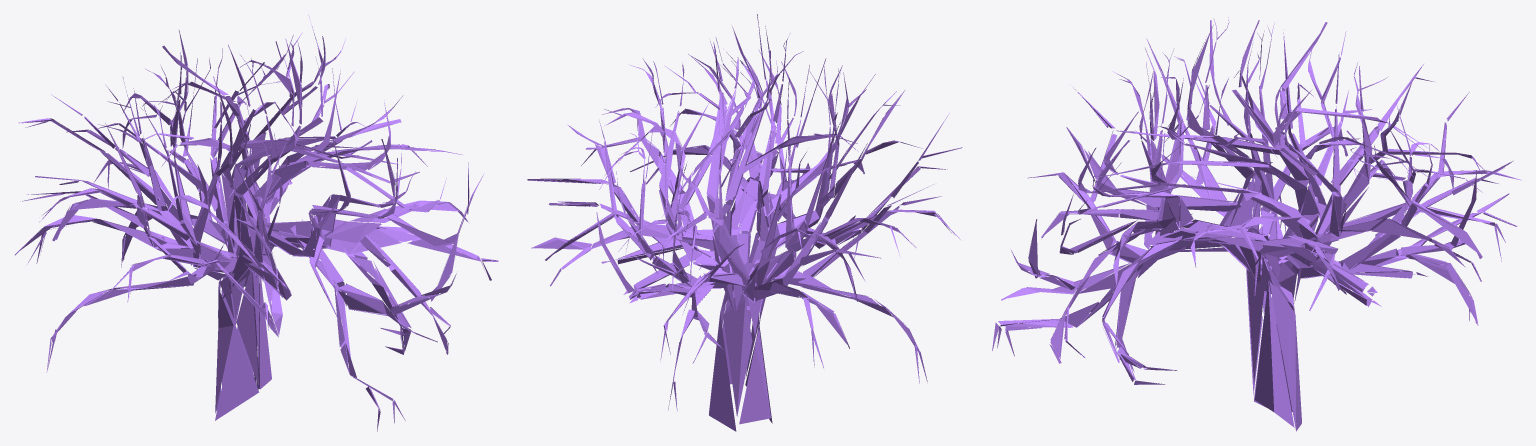
The model's file is tree.glb.
3 views of the same model, side by side, from view 1: azimuth 30°, elevation 25°; view 2: azimuth 150°, elevation 25°; view 3: azimuth 270°, elevation 25° (orthographic). The views are drawn at different scales.
Visible parts, largest first — view 1: tree; view 2: tree; view 3: tree.
Boxes of the visible parts, x1,y1,x2,y2 form: tree: (15, 15, 498, 431); tree: (527, 14, 962, 431); tree: (992, 17, 1521, 431).
Bounding box in the file's own units: 46.8 × 45.99 × 53.94.
